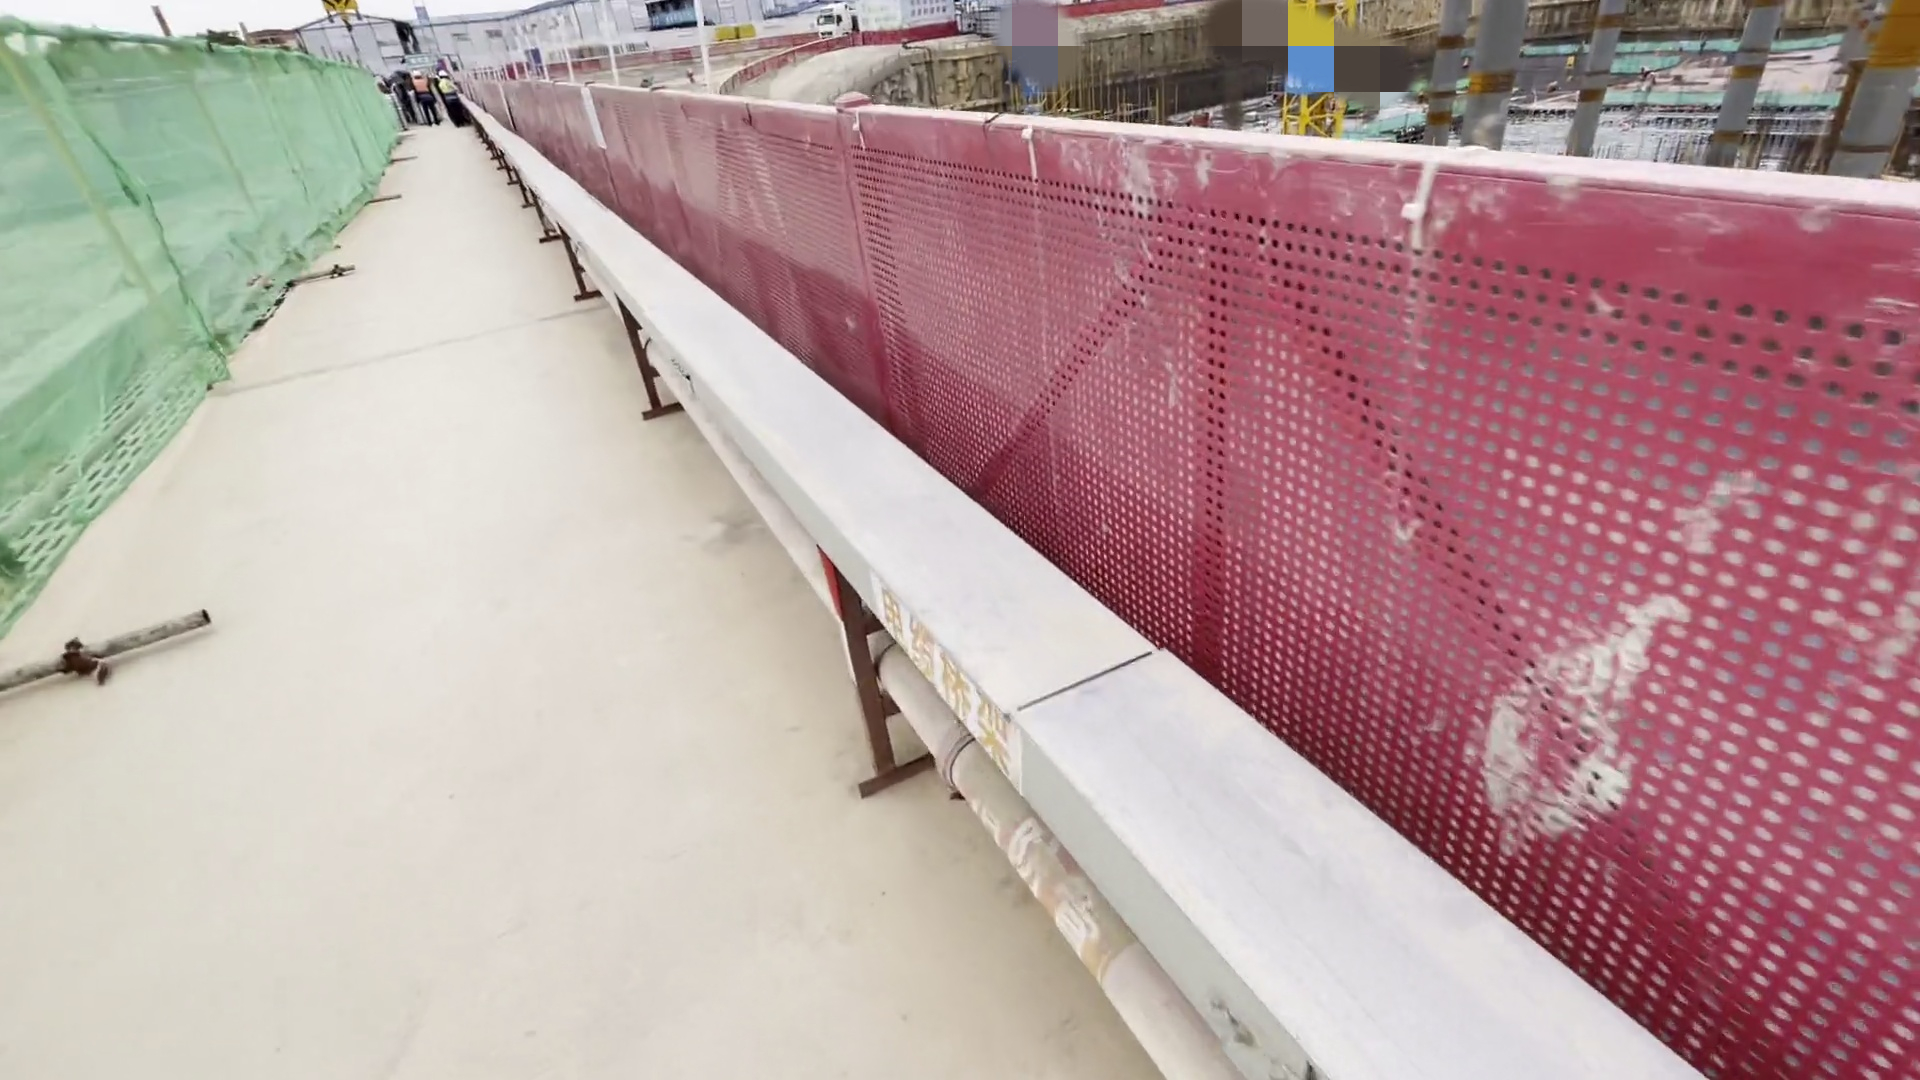fence: (430, 53, 1848, 1028)
hook: (325, 1, 360, 48)
person: (437, 66, 479, 134), (403, 72, 443, 128)
